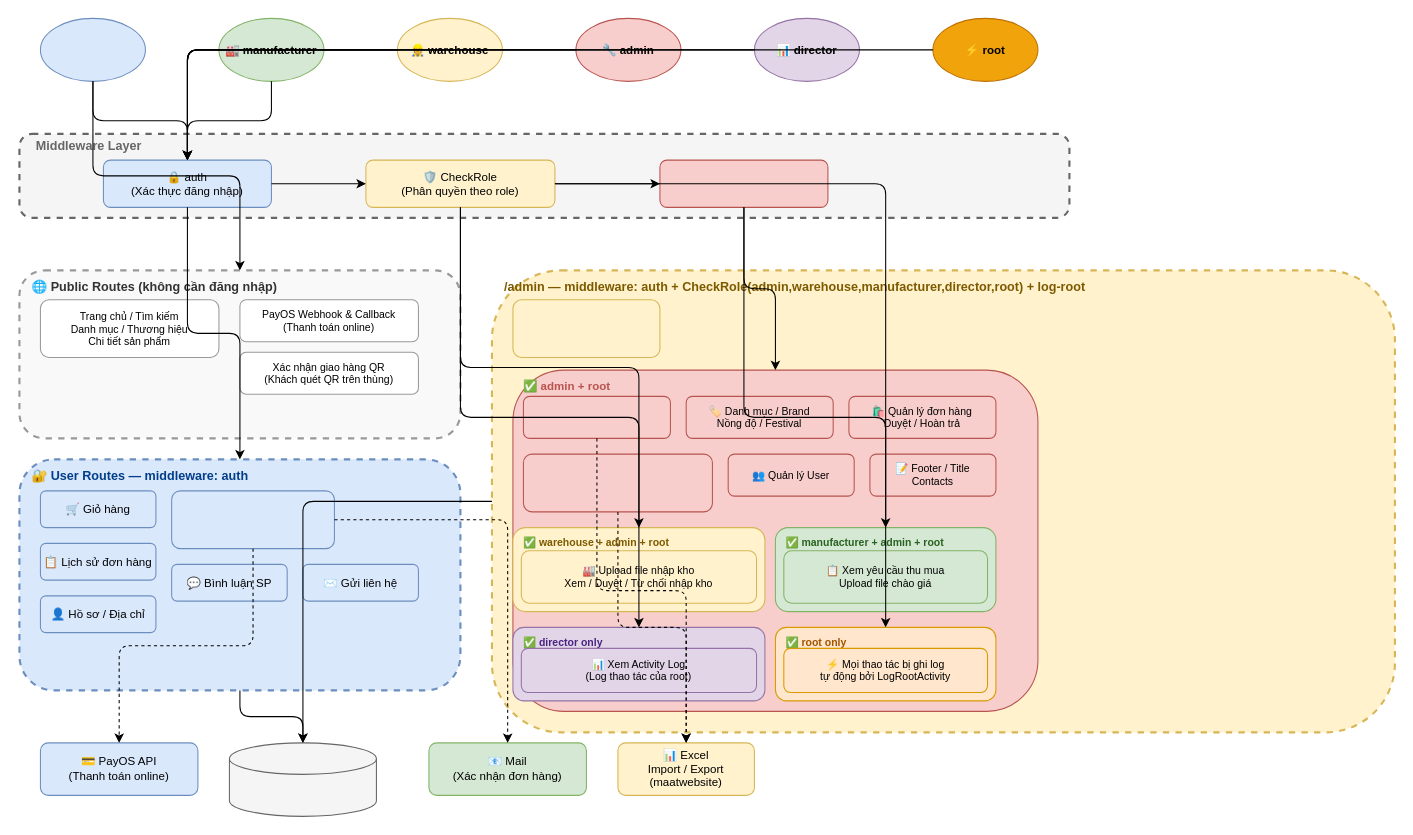
Some shapes in this 1413 by 835 pixel diagram are drawn without their labels. Here are the shapes that lost their labels. From the top down, the centre of each, then its label:
the point at 92,49: 👤 customer
the point at 743,183: 📝 log-root (LogRootActivity)
the point at 586,328: 📊 Dashboard Thống kê tổng quan [tất cả roles]
the point at 596,416: 📦 CRUD Sản phẩm Import Excel / Suggest
the point at 617,482: 🔗 Chuỗi cung ứng Yêu cầu thu mua Báo giá / Đơn đặt hàng NSX
the point at 252,519: 📦 Đặt hàng / Thanh toán PayOS / COD Hủy / Hoàn hàng
the point at 302,779: 🗄️ MySQL Database
